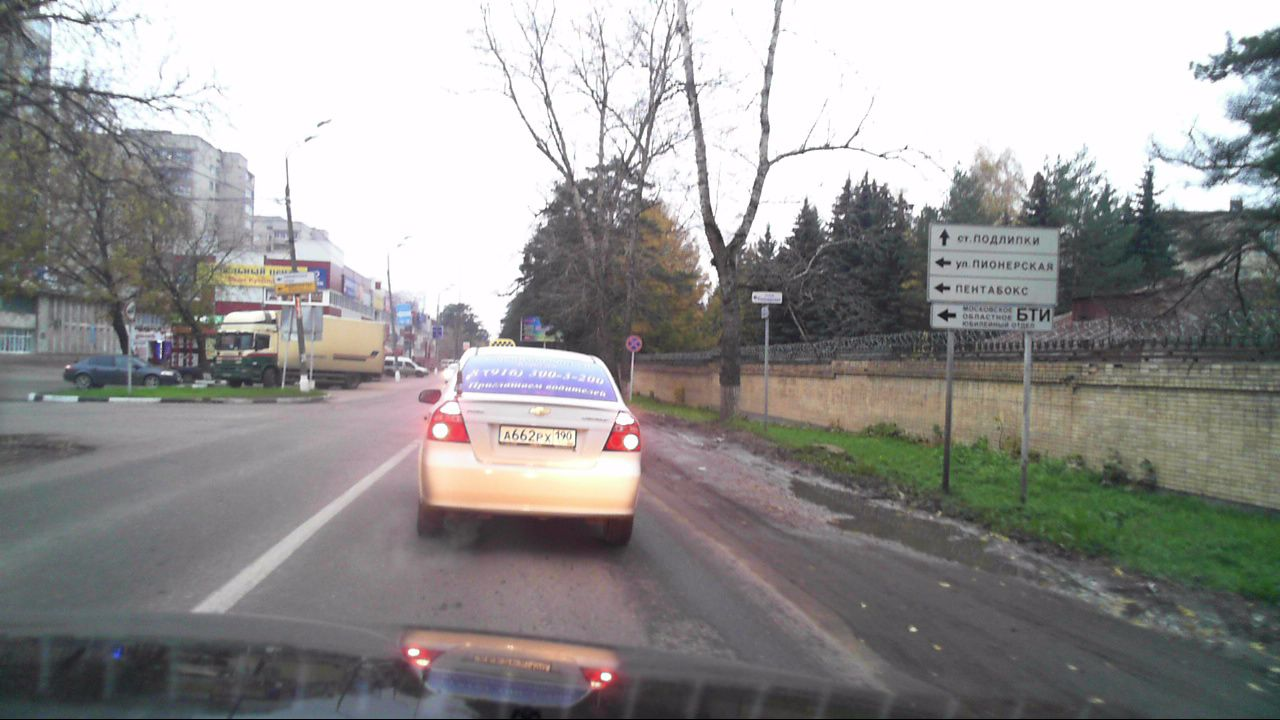No Parking: (625, 336, 642, 353)
